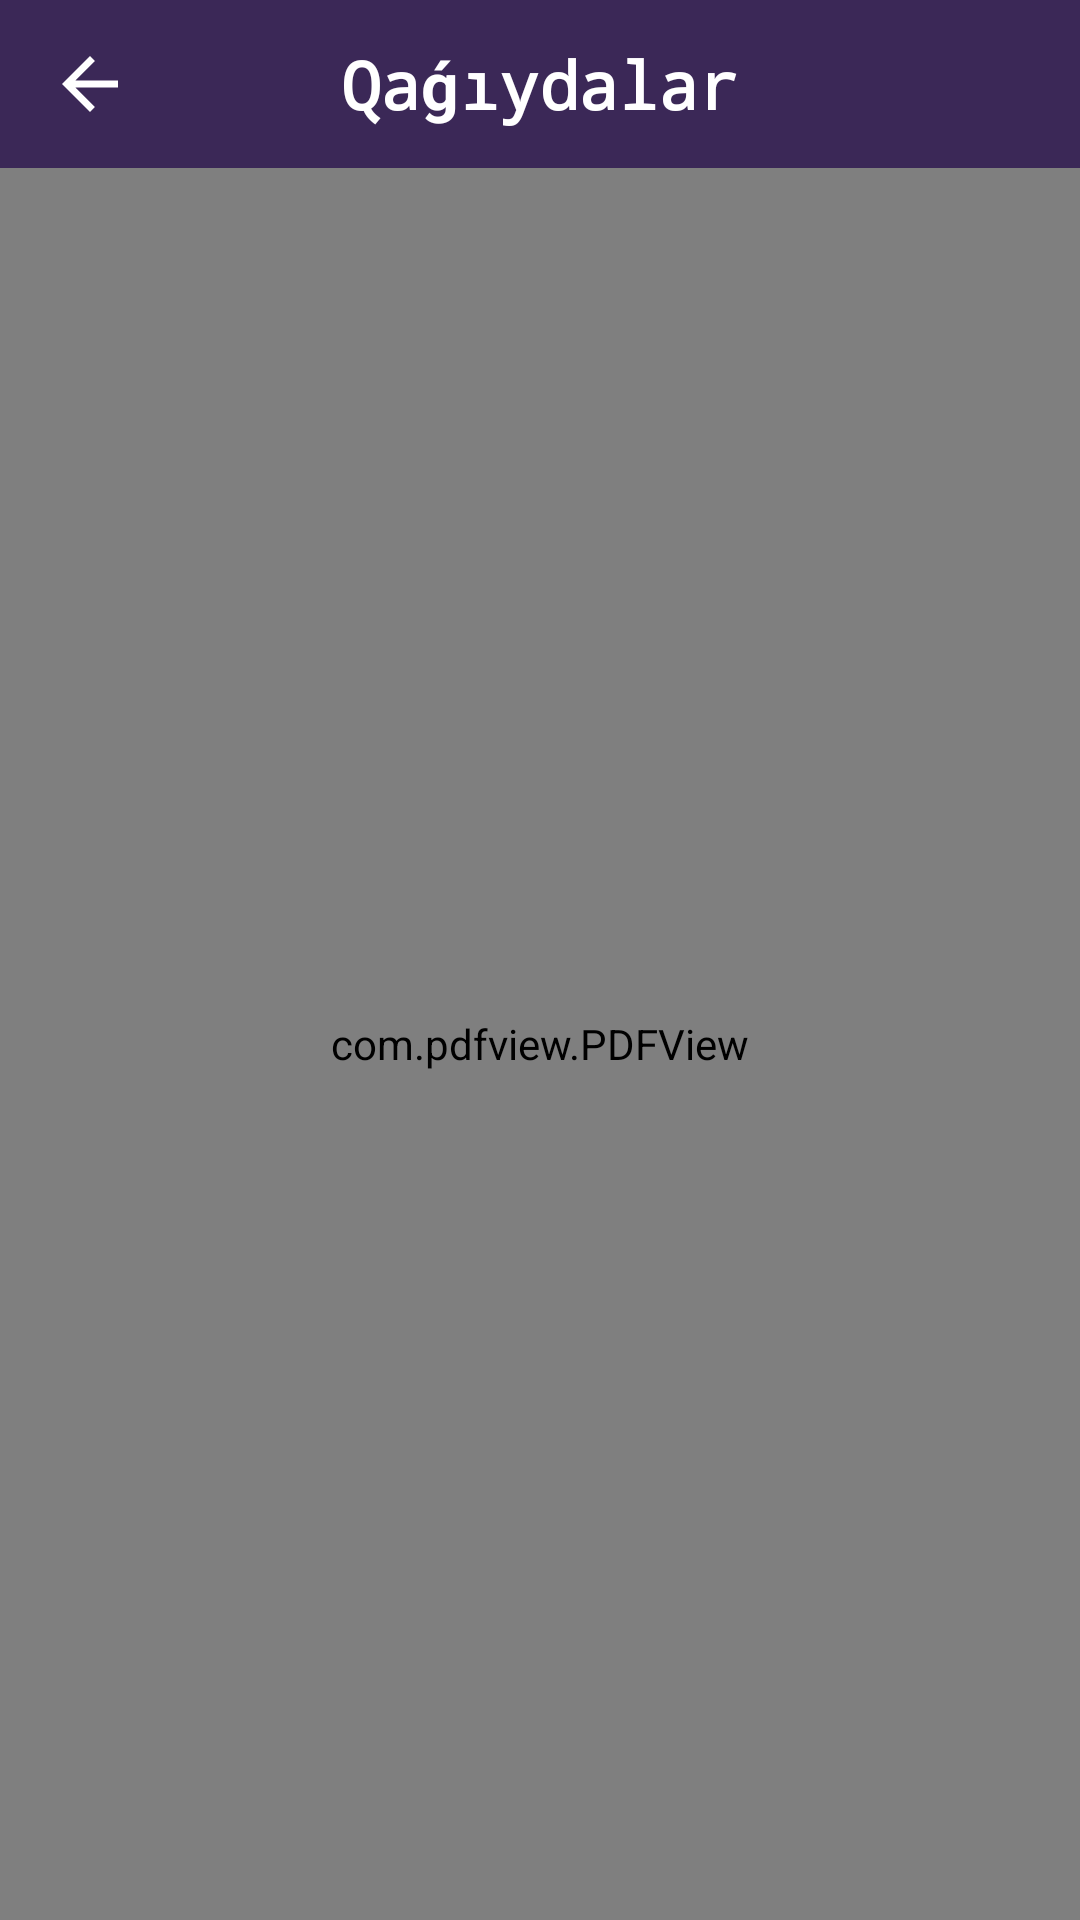

Icon bounding boxes for this 1080 × 1920 phone screenshot, format (x1, y1, x2, y2):
arrow back: (62, 56, 118, 112)
